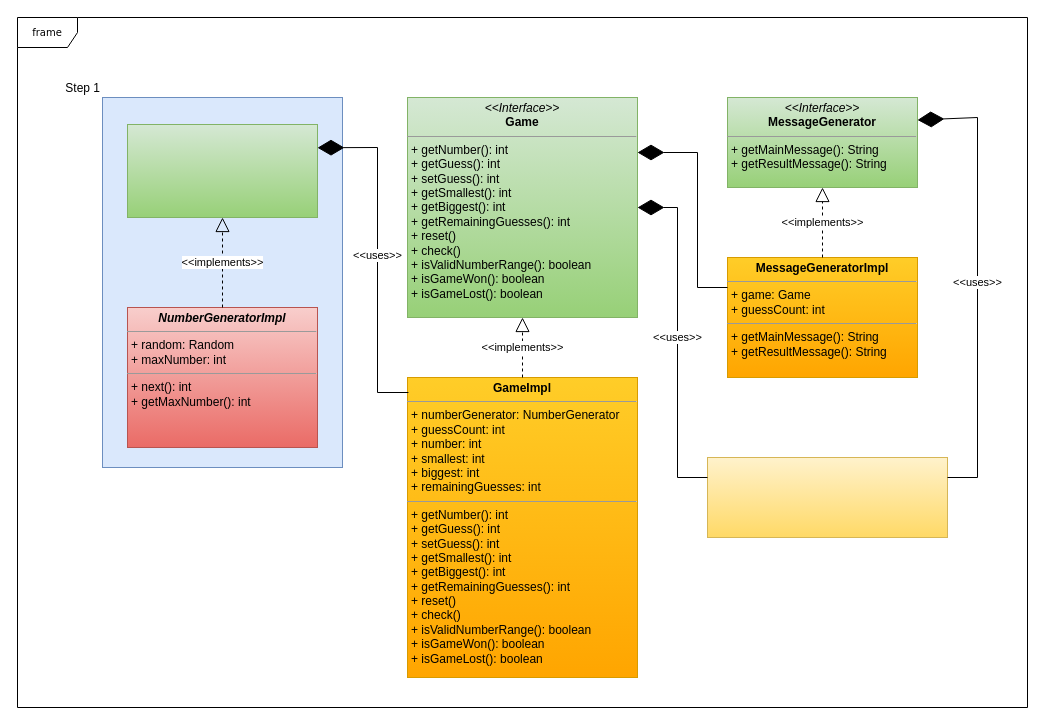
The diagram is 1045 pixels wide and 725 high, and some of its shapes have lost their labels. Here are the shapes that lost their labels. From the top down, the centre of each, then its label:
pixel 222 171: <<Interface>> NumberGenerator + next(): int + getMaxNumber(): int
pixel 827 497: ConsoleNumberGuess + game: Game + messageGenerator: MessageGenerator
